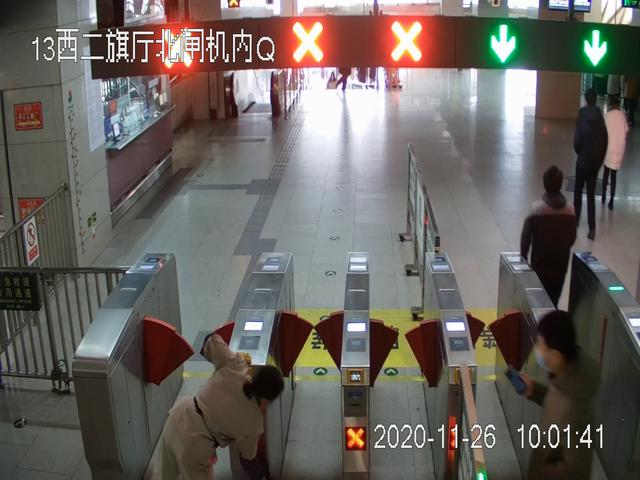person: (146, 335, 285, 480), (522, 166, 576, 370), (575, 89, 609, 240), (603, 97, 629, 210)
